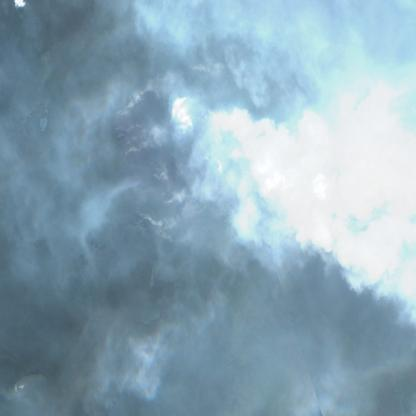fire: (106, 59, 302, 249)
